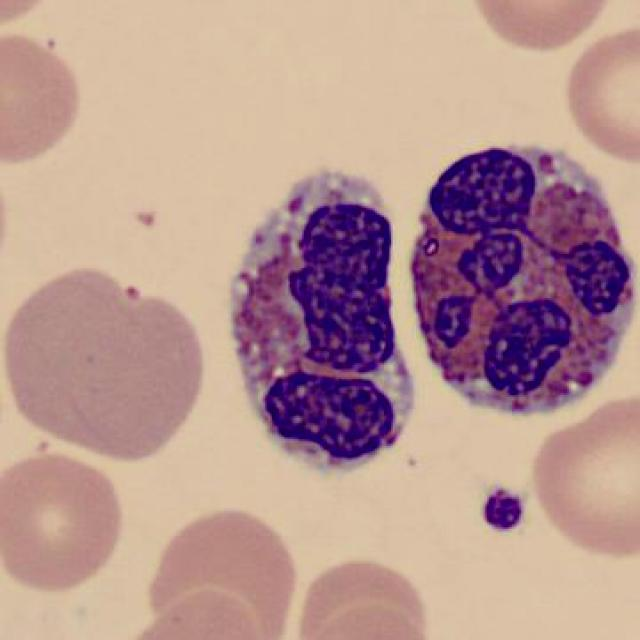Platelets: (474, 483, 530, 536)
RBC: (0, 262, 212, 466), (140, 501, 302, 638), (524, 386, 638, 566), (0, 448, 130, 596), (292, 552, 434, 640), (0, 28, 87, 169), (558, 19, 640, 168), (112, 585, 279, 640), (460, 0, 618, 56), (314, 597, 439, 640)
